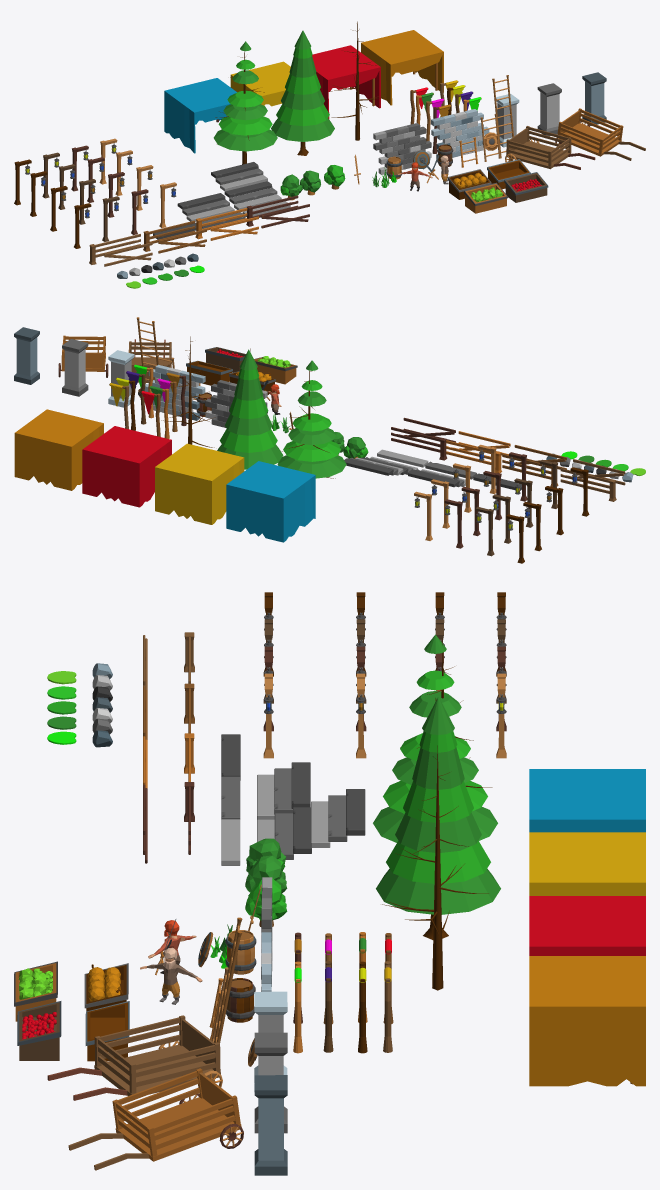
File: LowPolyAssetPack.fbx
3 views of the same model, one above another, from view 1: azimuth 30°, elevation 25°; view 2: azimuth 150°, elevation 25°; view 3: azimuth 270°, elevation 25° (orthographic). The views are drawn at different scales.
Parts seen in each view (by area): view 1: Pine_Full, Pine_Dying, Market_Orange, Market_Blue, Market_Red, Cart_Pivot_Wheel, Cart_Pivot_Body, Steps_6, BrickWall_Dark, BrickWall_Single, Market_Yellow, Stall_Tomato (+17 smaller); view 2: Market_Blue, Market_Red, Market_Yellow, Market_Orange, Pine_Full, Pine_Dying, BrickWall_Dark, Pillar_White, Pillar_Dark, BrickWall_Single, Cart_Pivot_Wheel, Cart_Pivot_Body (+27 smaller); view 3: Market_Orange, Pine_Full, Cart_Pivot_Wheel, Market_Blue, Market_Yellow, Cart_Pivot_Body, Market_Red, Pine_Dying, Steps_6, Pillar_Dark, Steps_3, Stall_Tomato (+15 smaller).
Part boxes in pixels (x1=…): Pine_Full: x1=271, y1=30, x2=334, y2=155; Pine_Dying: x1=213, y1=41, x2=277, y2=164; Market_Orange: x1=361, y1=30, x2=443, y2=105; Market_Blue: x1=164, y1=78, x2=236, y2=153; Market_Red: x1=312, y1=45, x2=380, y2=119; Cart_Pivot_Wheel: x1=555, y1=108, x2=645, y2=160; Cart_Pivot_Body: x1=505, y1=126, x2=595, y2=169; Steps_6: x1=211, y1=162, x2=281, y2=209; BrickWall_Dark: x1=431, y1=109, x2=489, y2=158; BrickWall_Single: x1=373, y1=123, x2=431, y2=174; Market_Yellow: x1=230, y1=61, x2=290, y2=106; Stall_Tomato: x1=504, y1=172, x2=548, y2=202; Market_Blue: x1=226, y1=461, x2=315, y2=542; Market_Red: x1=82, y1=426, x2=171, y2=507; Market_Yellow: x1=155, y1=443, x2=244, y2=524; Market_Orange: x1=14, y1=409, x2=103, y2=490; Pine_Full: x1=217, y1=348, x2=283, y2=469; Pine_Dying: x1=277, y1=360, x2=346, y2=478; BrickWall_Dark: x1=144, y1=364, x2=205, y2=420; Pillar_White: x1=62, y1=339, x2=88, y2=396; Pillar_Dark: x1=14, y1=327, x2=39, y2=384; BrickWall_Single: x1=205, y1=380, x2=267, y2=427; Cart_Pivot_Wheel: x1=58, y1=335, x2=108, y2=377; Cart_Pivot_Body: x1=128, y1=339, x2=171, y2=382; Market_Orange: x1=529, y1=956, x2=645, y2=1086; Pine_Full: x1=376, y1=697, x2=500, y2=939; Cart_Pivot_Wheel: x1=68, y1=1068, x2=243, y2=1170; Market_Blue: x1=529, y1=769, x2=645, y2=832; Market_Yellow: x1=529, y1=832, x2=645, y2=895; Cart_Pivot_Body: x1=47, y1=1015, x2=222, y2=1100; Market_Red: x1=529, y1=896, x2=645, y2=955; Pine_Dying: x1=373, y1=634, x2=497, y2=842; Steps_6: x1=257, y1=789, x2=365, y2=859; Pillar_Dark: x1=254, y1=1075, x2=287, y2=1175; Steps_3: x1=257, y1=762, x2=310, y2=819; Stall_Tomato: x1=17, y1=1001, x2=61, y2=1060.
Bounding box in the file's own units: 1355 × 307 × 713.
Materials: 6 (6 with a texture image).
